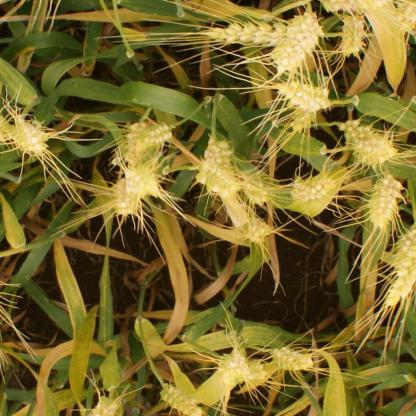whd: (270, 8, 327, 78), (198, 18, 302, 52), (365, 170, 406, 233), (336, 114, 392, 154), (271, 80, 332, 114), (384, 240, 416, 304), (158, 381, 210, 415), (268, 342, 319, 376), (9, 115, 49, 156), (351, 134, 401, 166), (221, 351, 268, 383), (286, 95, 324, 134), (337, 11, 368, 58), (317, 0, 394, 15), (200, 168, 234, 199), (111, 177, 139, 211), (126, 121, 147, 161), (204, 139, 231, 169), (86, 394, 122, 416), (242, 172, 265, 206), (243, 218, 274, 243), (291, 183, 333, 201), (142, 125, 171, 144), (124, 170, 146, 191)
